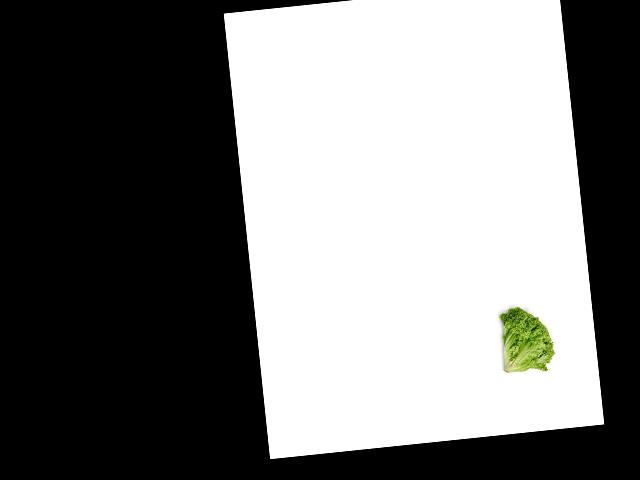lettuce: (491, 300, 560, 378)
